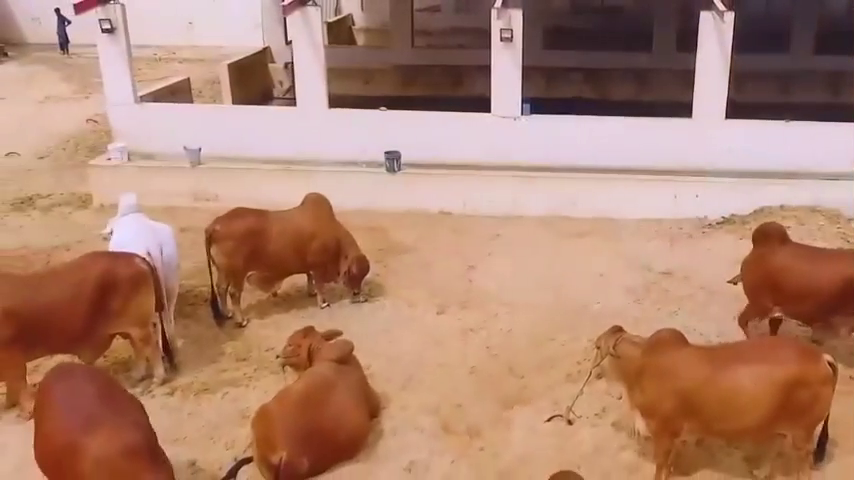bo: (579, 312, 838, 475), (1, 249, 191, 415), (198, 183, 389, 341), (250, 326, 395, 472), (25, 351, 182, 478), (719, 210, 854, 350), (95, 196, 190, 350)
